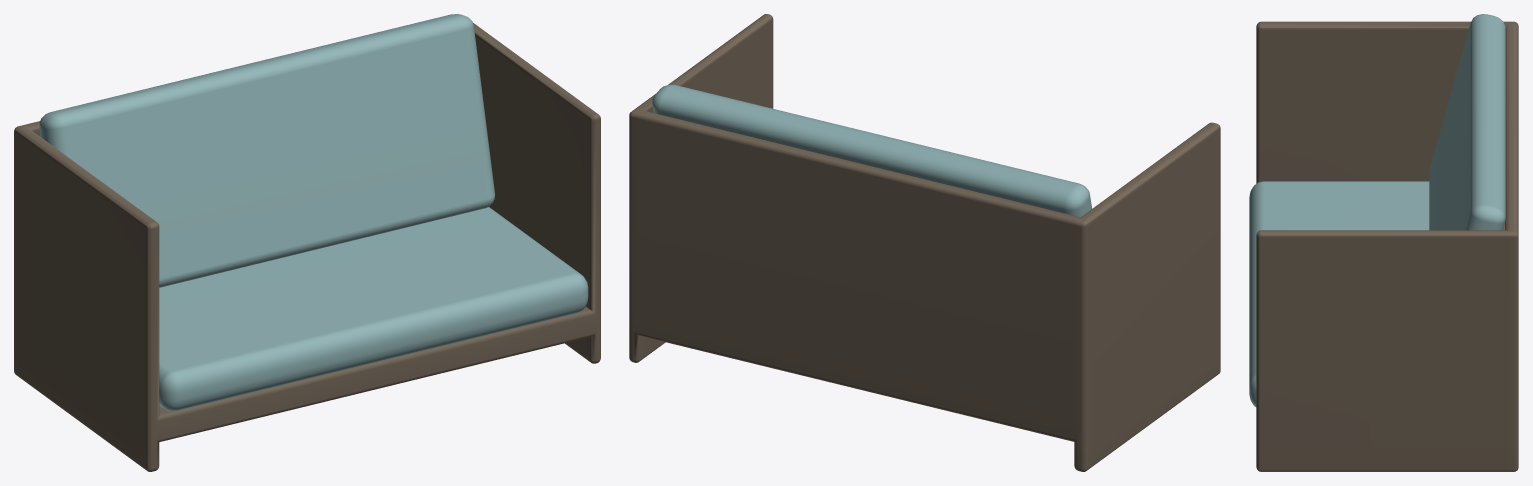
The model's file is Couch.fbx.
3 views of the same model, side by side, from view 1: azimuth 30°, elevation 25°; view 2: azimuth 150°, elevation 25°; view 3: azimuth 270°, elevation 25° (orthographic). The views are drawn at different scales.
Parts seen in each view (by area): view 1: BackCushion, WoddenFrame, SeatCushion; view 2: WoddenFrame, BackCushion; view 3: WoddenFrame, BackCushion, SeatCushion.
Boxes of the visible parts, bbox=[...] form: BackCushion: bbox=[39, 14, 495, 287]; WoddenFrame: bbox=[14, 23, 600, 471]; SeatCushion: bbox=[159, 207, 588, 411]; WoddenFrame: bbox=[629, 14, 1220, 471]; BackCushion: bbox=[652, 84, 1092, 217]; WoddenFrame: bbox=[1256, 21, 1518, 471]; BackCushion: bbox=[1429, 14, 1505, 230]; SeatCushion: bbox=[1249, 181, 1429, 407].
Size of the model in its own units: 4.71 by 2.65 by 2.51.
